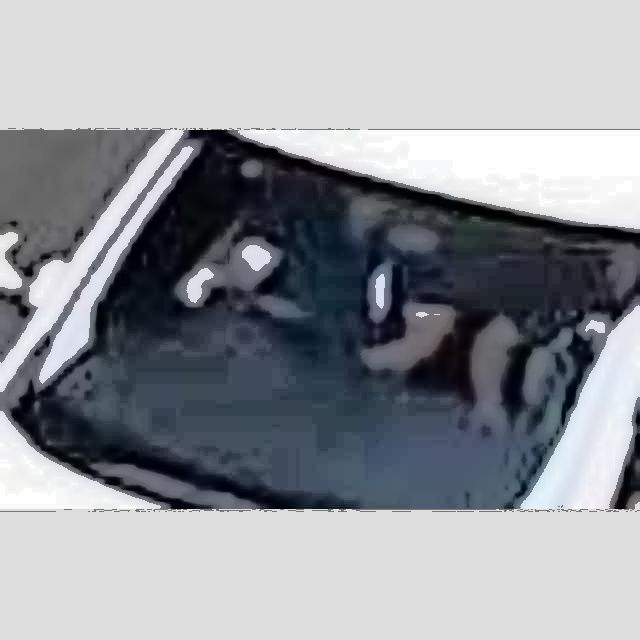tidak-pakai: (238, 181, 453, 362)
